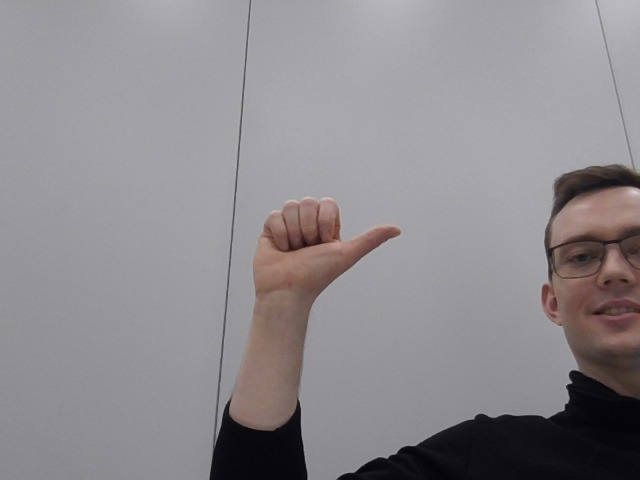left: (234, 190, 415, 317)
